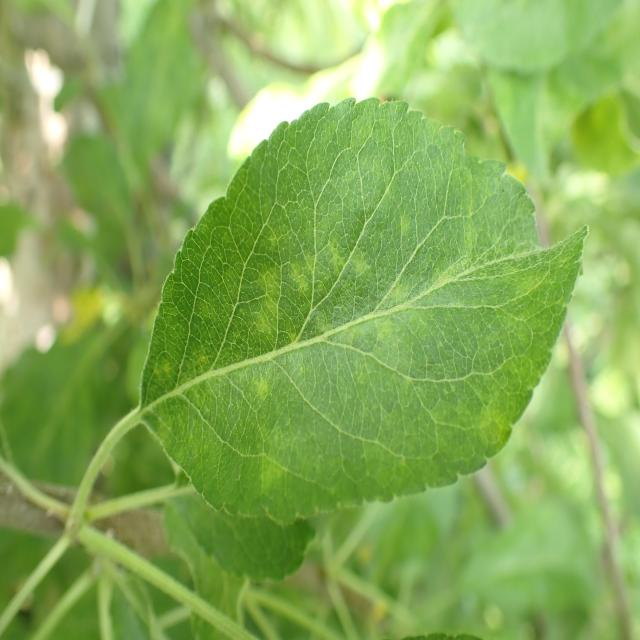scab: (138, 148, 586, 502)
